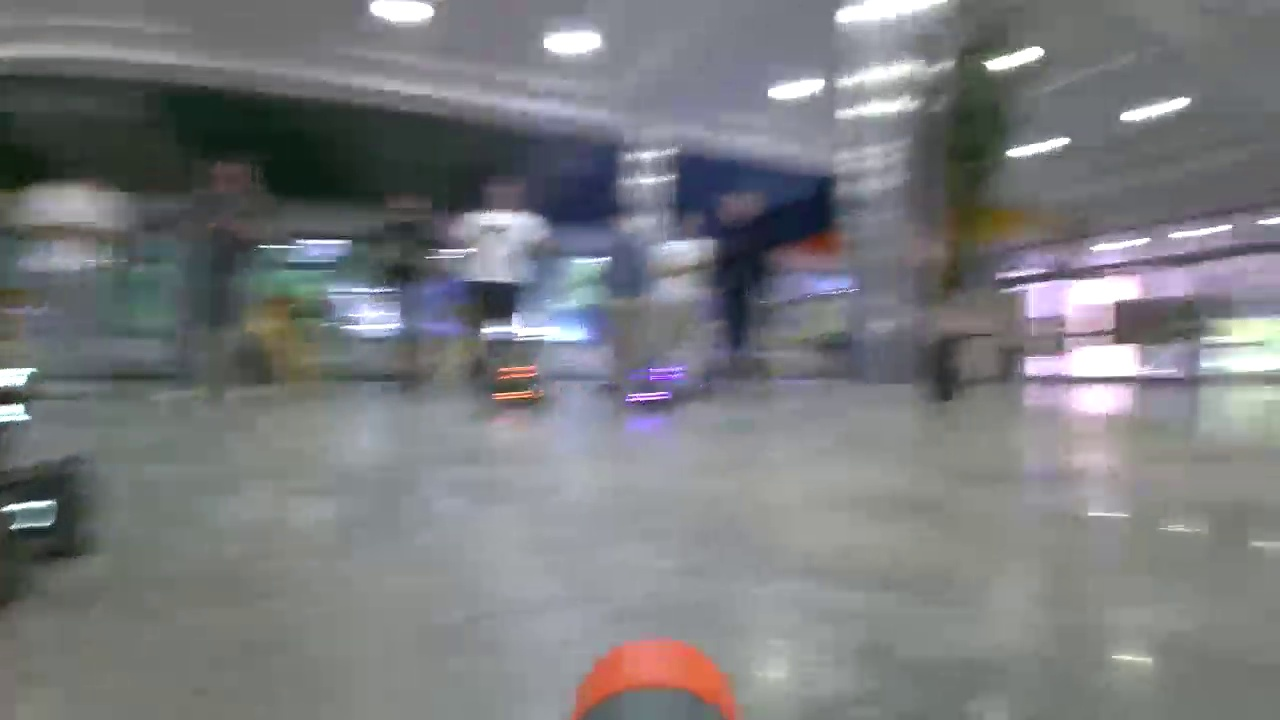robot: (1, 332, 85, 602), (625, 364, 687, 405), (491, 364, 546, 403)
